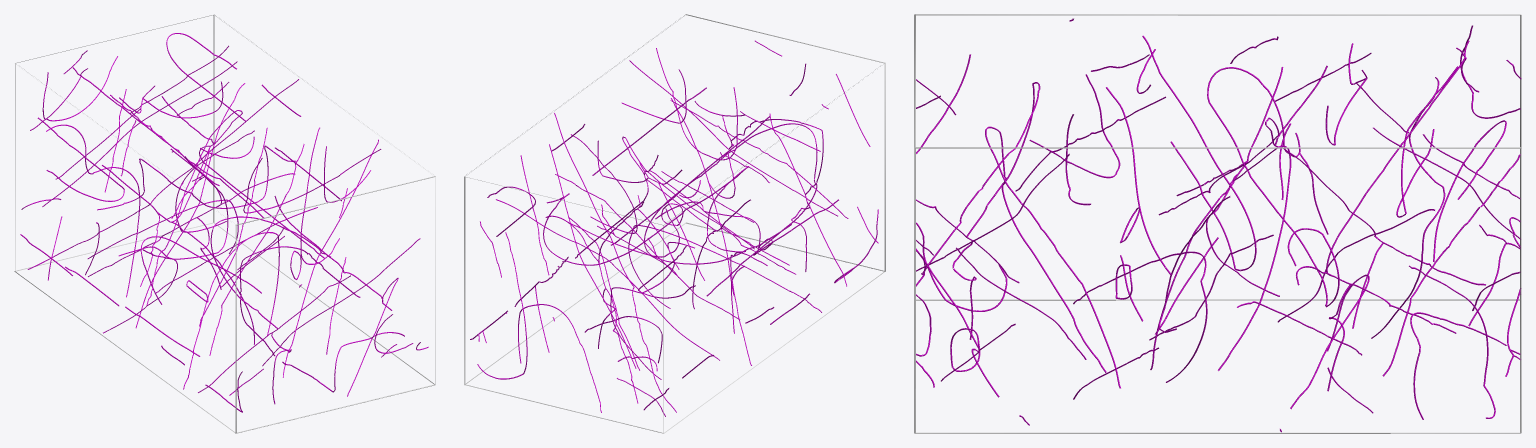
3 views of the same model, side by side, from view 1: azimuth 30°, elevation 25°; view 2: azimuth 150°, elevation 25°; view 3: azimuth 270°, elevation 25° (orthographic). The views are drawn at different scales.
Visible parts, largest first — view 1: Shape_IndexedLineSet.001, Shape_IndexedLineSet; view 2: Shape_IndexedLineSet.001, Shape_IndexedLineSet; view 3: Shape_IndexedLineSet.001, Shape_IndexedLineSet.
Boxes of the visible parts, bbox=[...] form: Shape_IndexedLineSet.001: bbox=[20, 33, 428, 412]; Shape_IndexedLineSet: bbox=[14, 14, 435, 433]; Shape_IndexedLineSet.001: bbox=[470, 40, 878, 416]; Shape_IndexedLineSet: bbox=[464, 14, 885, 433]; Shape_IndexedLineSet.001: bbox=[916, 18, 1521, 432]; Shape_IndexedLineSet: bbox=[914, 14, 1521, 433].
Bounding box in the file's own units: 237 × 237 × 455.
